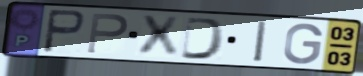D: (178, 15, 227, 61)
G: (281, 22, 325, 66)
I: (252, 19, 270, 64)
P: (40, 8, 87, 55), (84, 11, 131, 56)
X: (138, 14, 182, 58)
